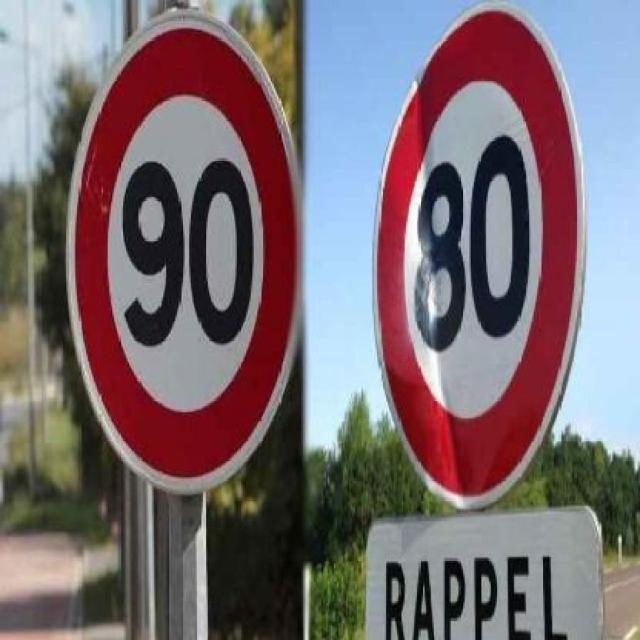forb_speed_over_80: (382, 7, 575, 493)
